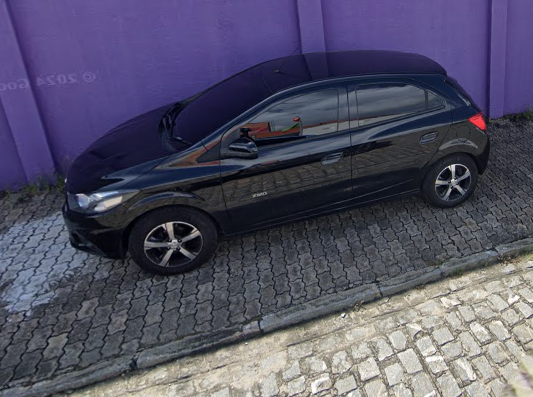car: (60, 45, 493, 279)
